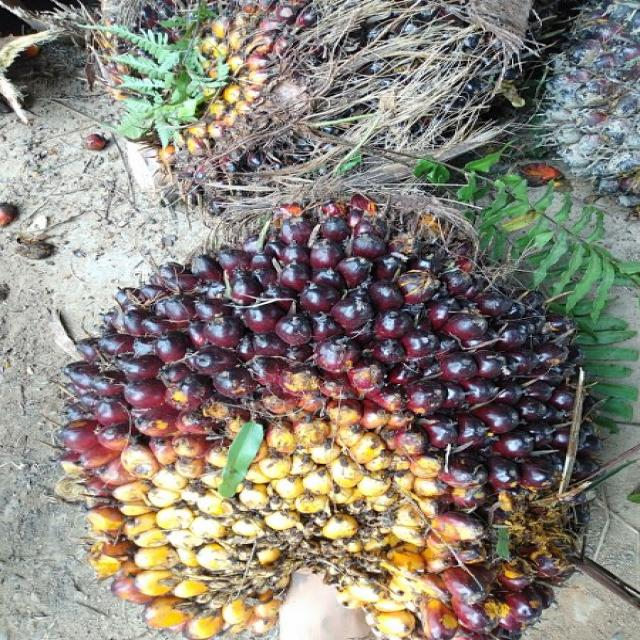fraksi 00: (66, 192, 602, 640)
